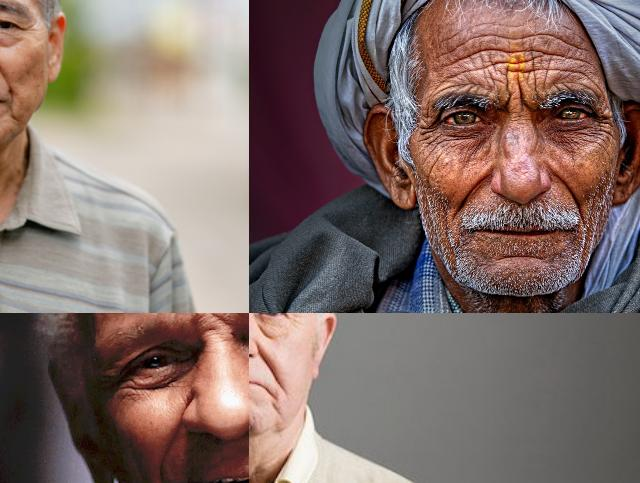crows_feet: (591, 109, 615, 141), (418, 114, 442, 142), (116, 378, 144, 396), (22, 20, 34, 32)
forehead: (548, 60, 598, 94), (509, 30, 548, 60), (553, 28, 585, 64), (442, 69, 480, 95), (442, 28, 468, 61), (476, 32, 504, 61), (498, 68, 532, 90)
frown_line: (501, 86, 534, 118), (196, 313, 230, 335)
gummy_smile: (158, 414, 184, 472), (555, 172, 585, 210), (455, 174, 485, 212), (256, 348, 276, 380), (0, 51, 8, 82)
masseter: (419, 154, 443, 182)
sad_smile: (268, 396, 282, 418), (5, 98, 17, 120)
